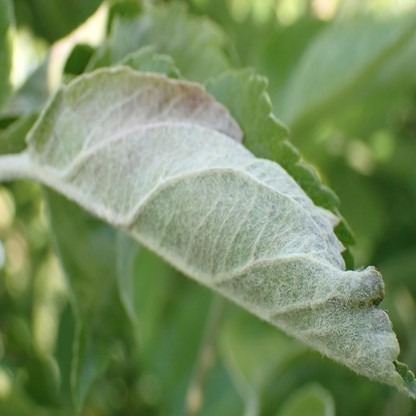powdery_mildew: (26, 66, 415, 396)
